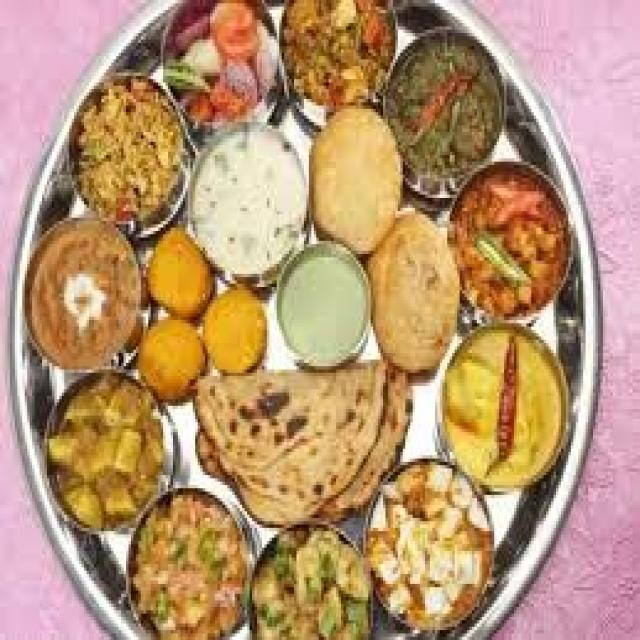dal: (442, 327, 573, 492), (133, 309, 211, 402)
papad: (231, 354, 412, 527)
rice: (66, 77, 185, 233), (186, 122, 306, 271)
roti: (199, 360, 408, 525), (271, 4, 405, 116)
sweet: (439, 318, 576, 497)
veg-fry: (455, 168, 582, 322)
